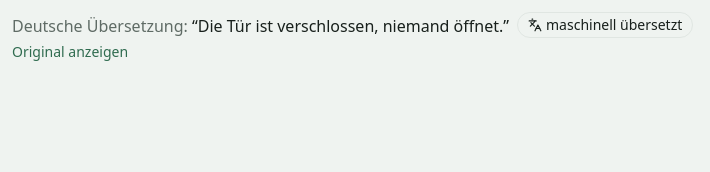
Scenario: ProblemNote (de) › shows the German text with a machine marker; the original sits behind a toggle
Expected: the element with test id "stop-problem-german" shows "Die Tür ist verschlossen, niemand öffnet.", [198,15,503,37]
Expected: the element with test id "stop-problem-machine" is shown, [517,12,693,38]
Click the button with test id "stop-problem-toggle": (70, 52) [12,42,128,62]
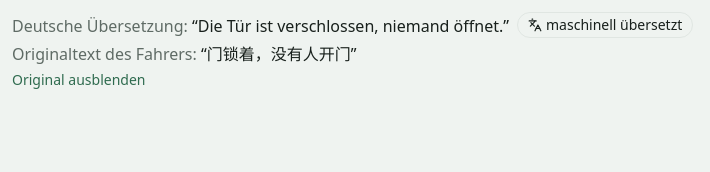
Expected: the button with test id "stop-problem-toggle" is expanded
Expected: the element with test id "stop-problem-original" shows "门锁着，没有人开门", [207,43,351,65]
Click the button with test id "stop-problem-toggle": (79, 80) [12,70,146,90]
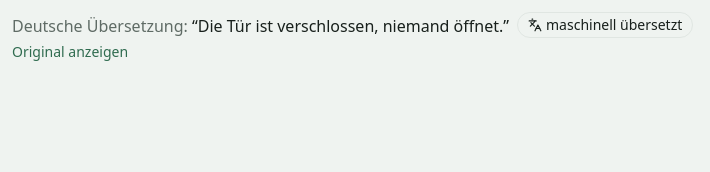
Expected: the element with test id "stop-problem-original" is gone
